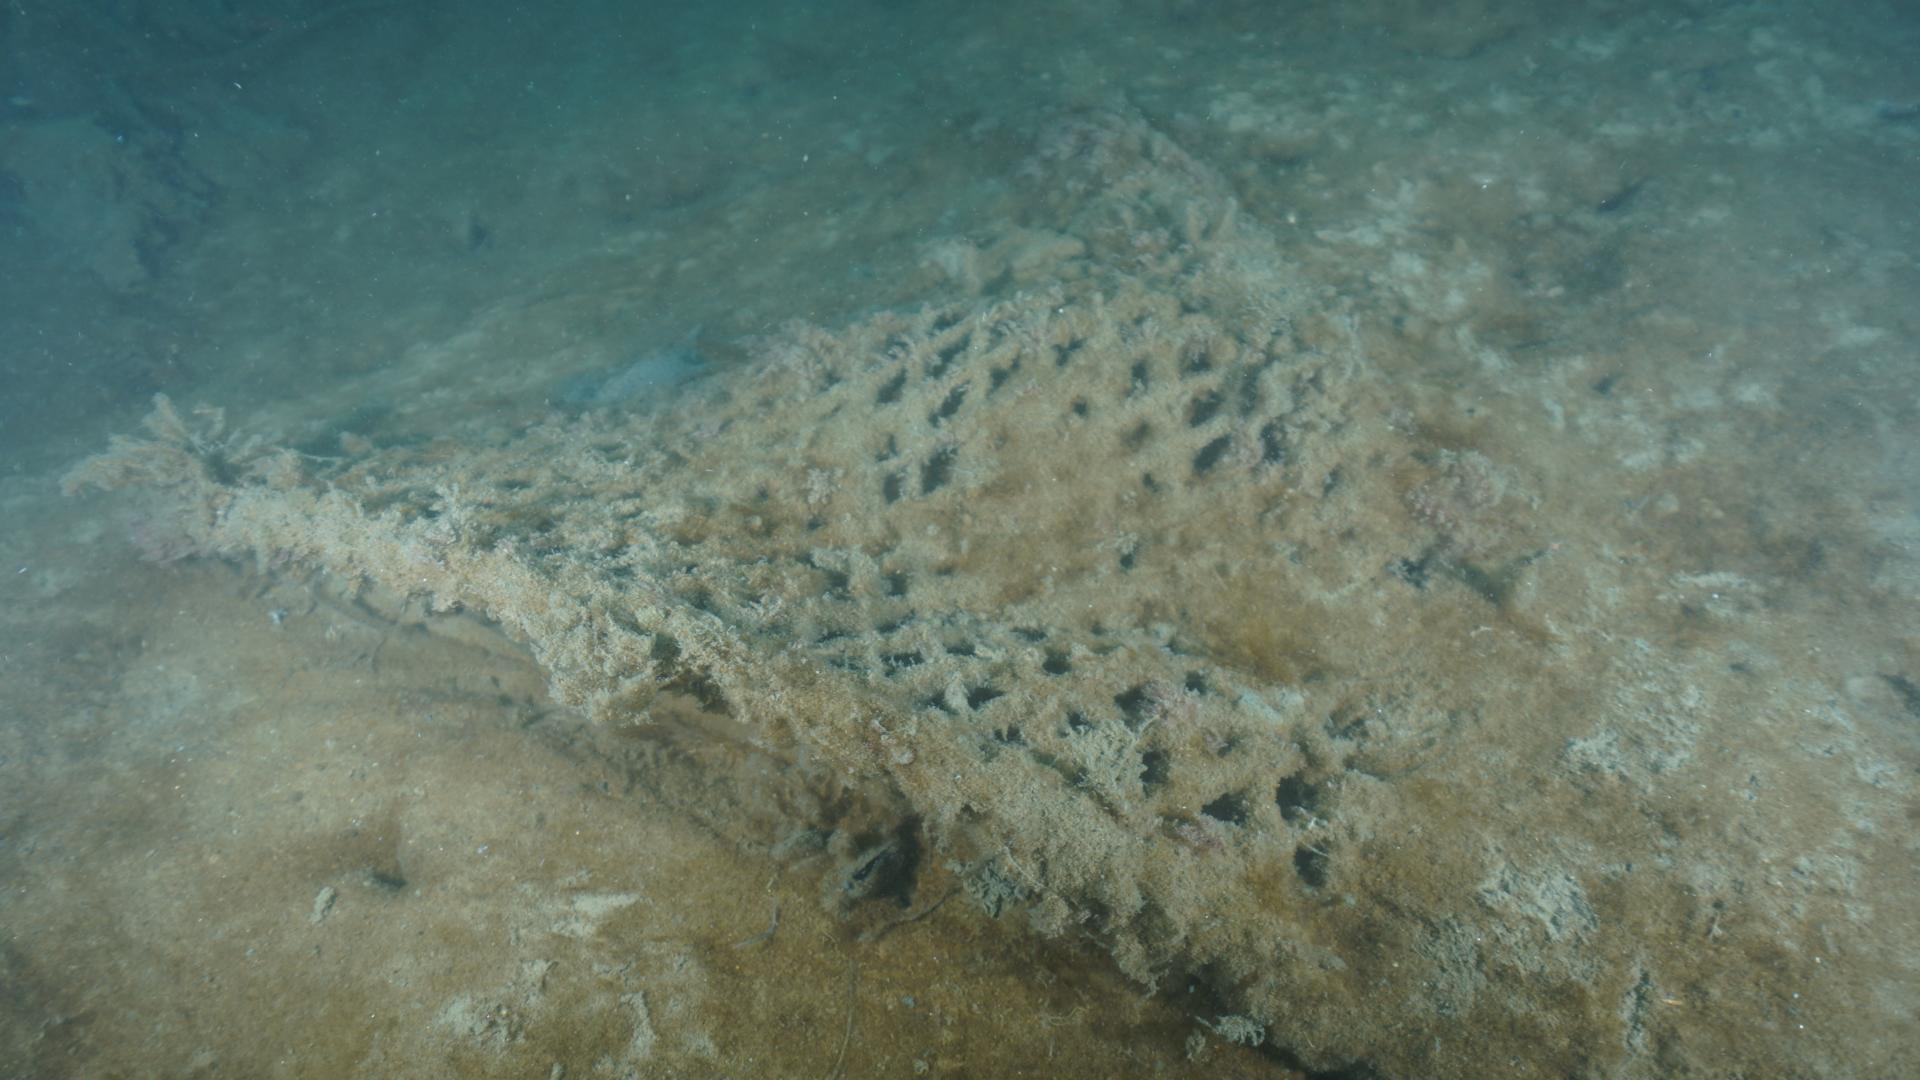fish net: (70, 258, 1422, 1080)
